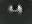person: (15, 5, 25, 16), (8, 5, 15, 16)
